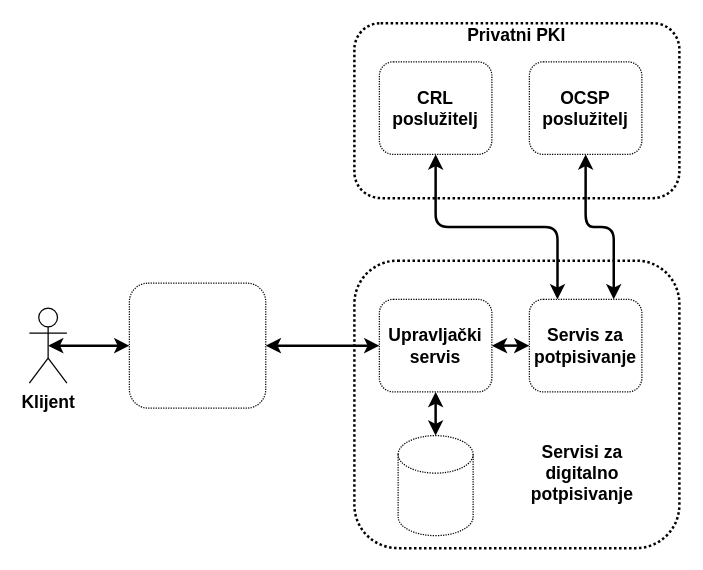
The diagram is 703 pixels wide and 570 high, and some of its shapes have lost their labels. The shapes that lost their labels are listed below. From the top down, each one's centre as x and y in pixels, then its label:
pixel 197 345: Web aplikacija
pixel 435 485: Baza podataka
